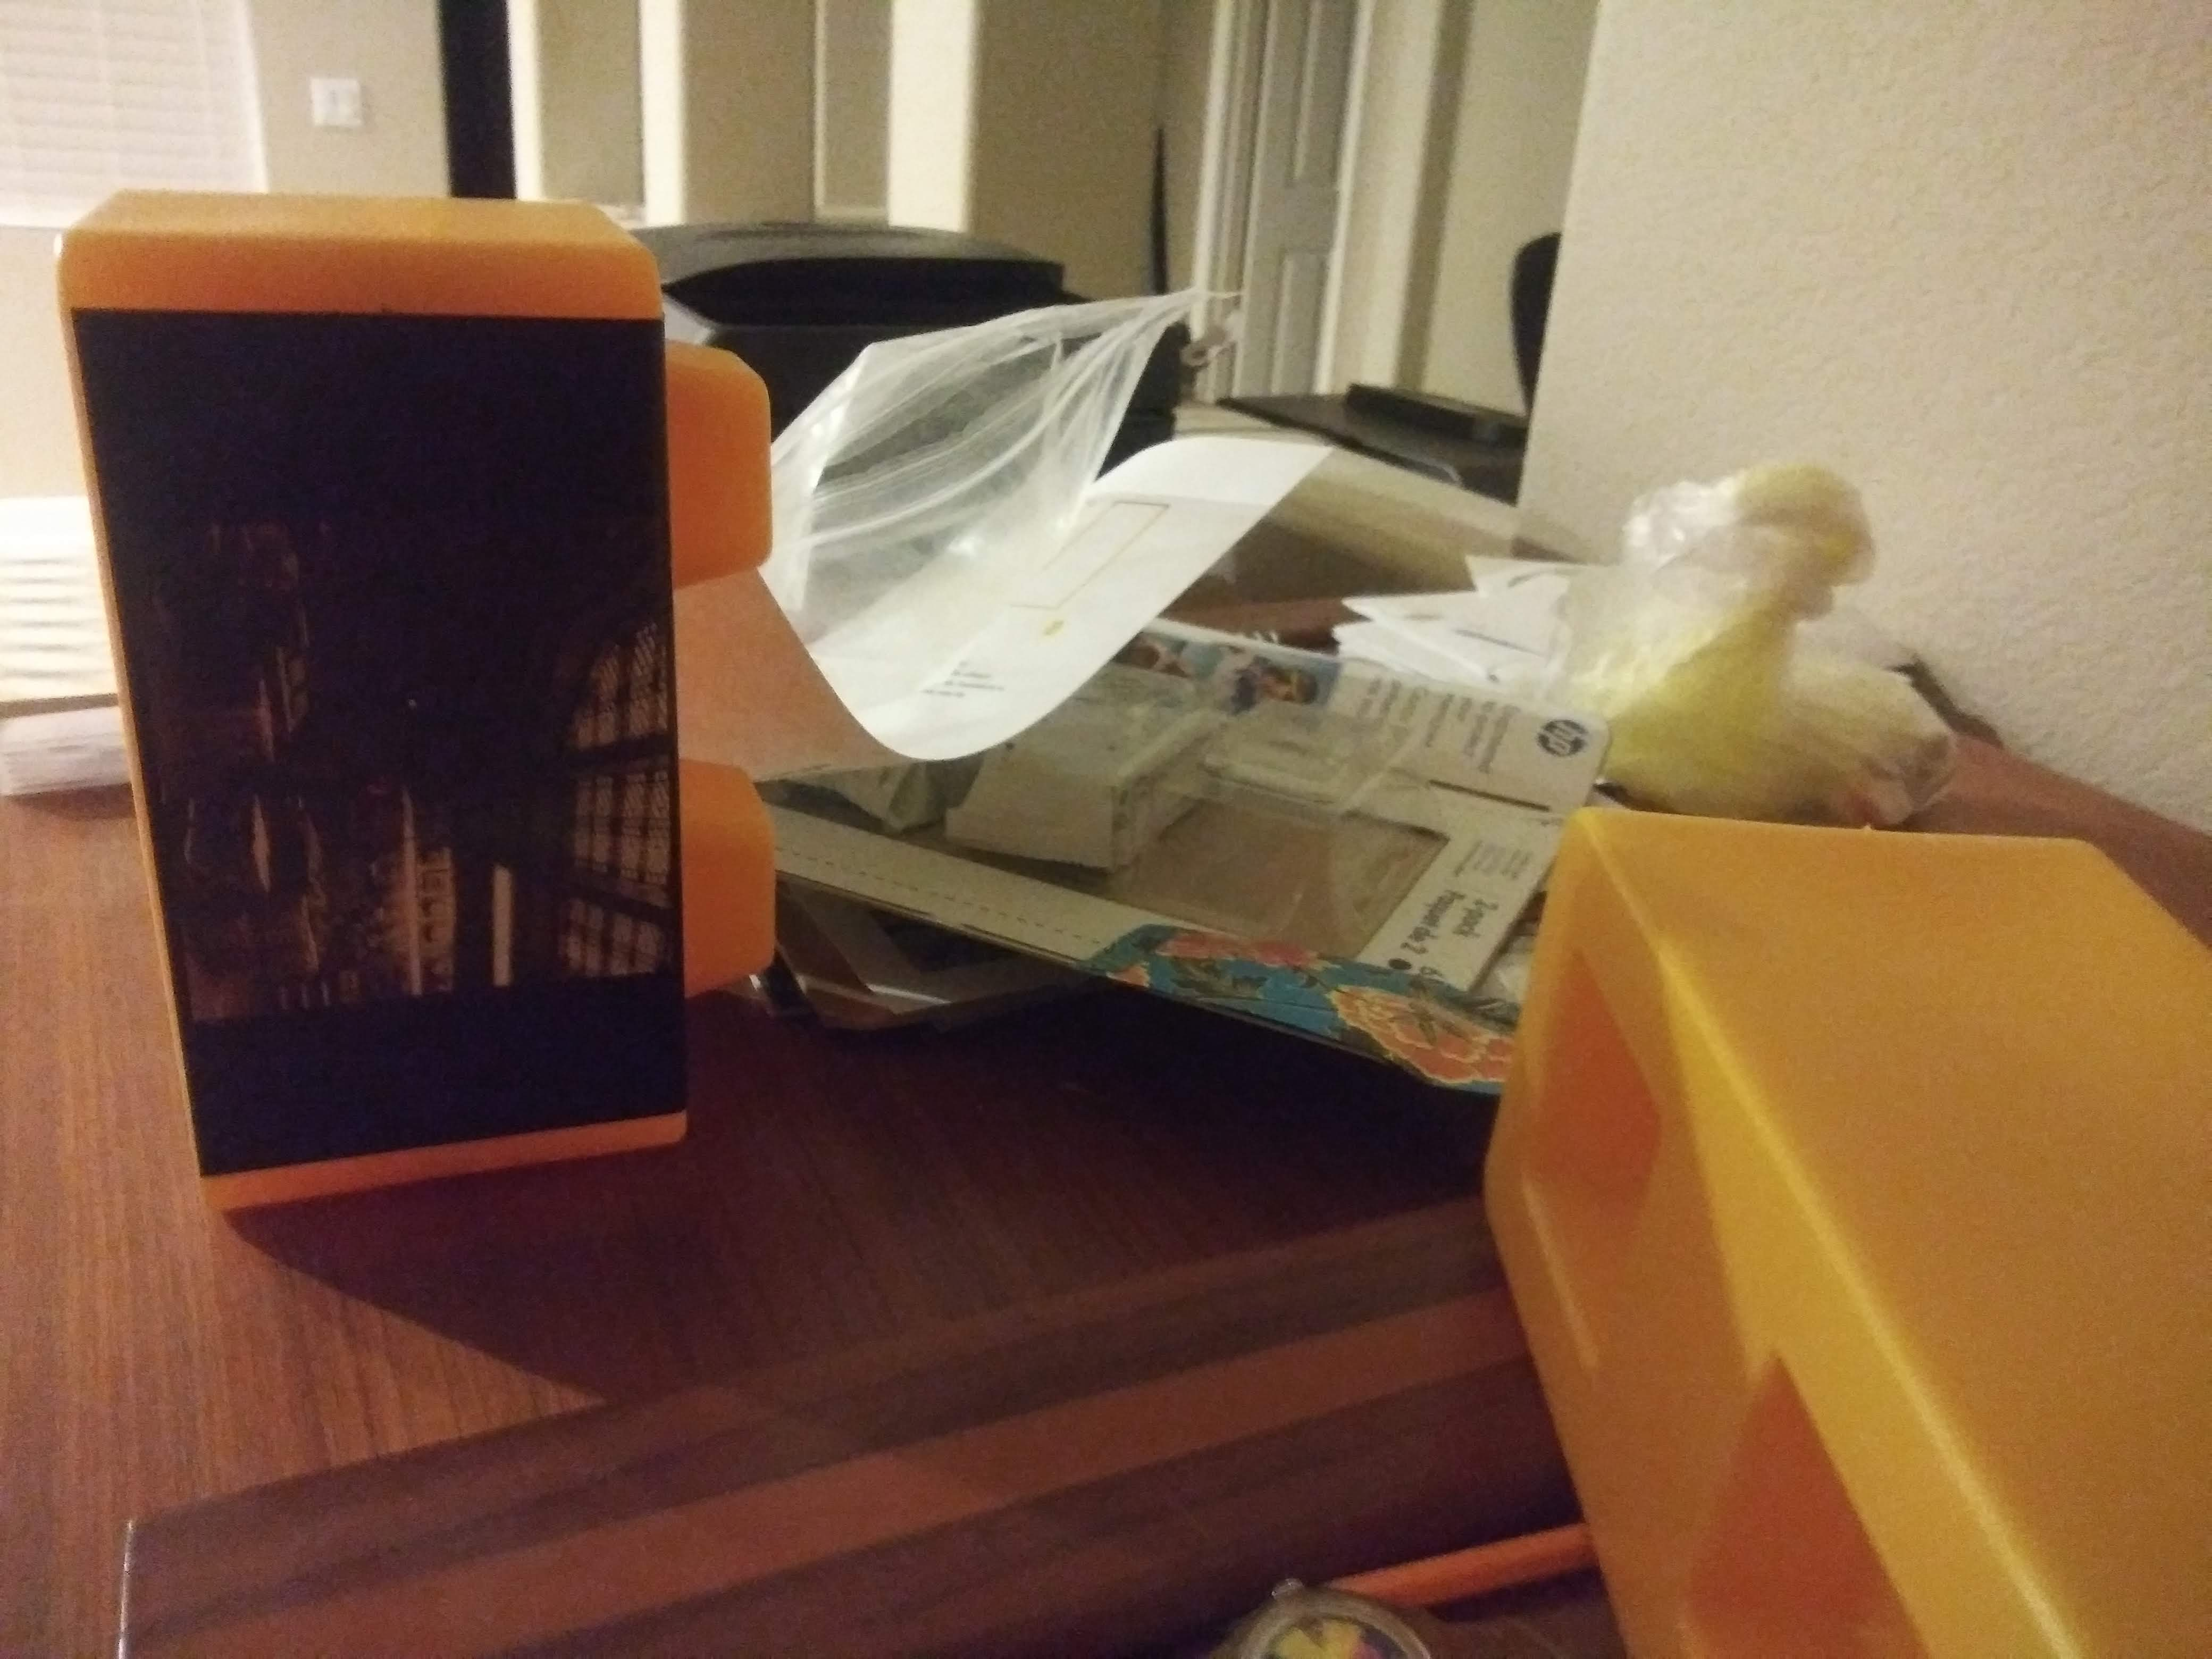skystone: (49, 207, 726, 1154)
stone: (1526, 821, 2203, 1629)
